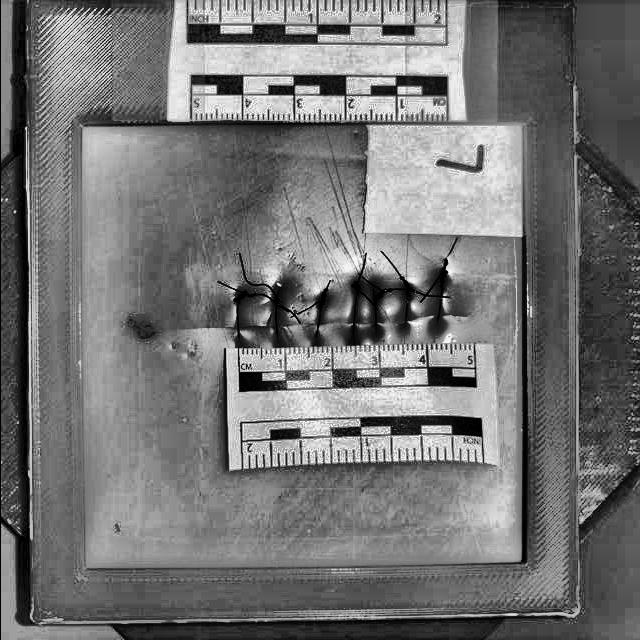incision_line: (139, 308, 470, 340)
scale_marker: (239, 349, 285, 373)
suture_d: (406, 309, 439, 322), (238, 320, 274, 330), (277, 320, 317, 328), (320, 318, 354, 327), (376, 317, 404, 325), (354, 318, 374, 326)
suture_l: (432, 273, 448, 315), (348, 288, 362, 322), (398, 288, 412, 320), (314, 294, 328, 322), (231, 301, 241, 328), (272, 300, 282, 324), (372, 296, 379, 322)
suture_r: (311, 322, 321, 338), (348, 322, 358, 336), (400, 320, 410, 330), (234, 326, 242, 338), (433, 315, 441, 326), (372, 322, 379, 334), (274, 324, 280, 338)
